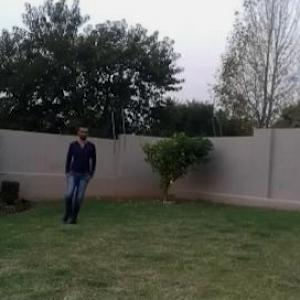follow: (61, 119, 95, 227)
